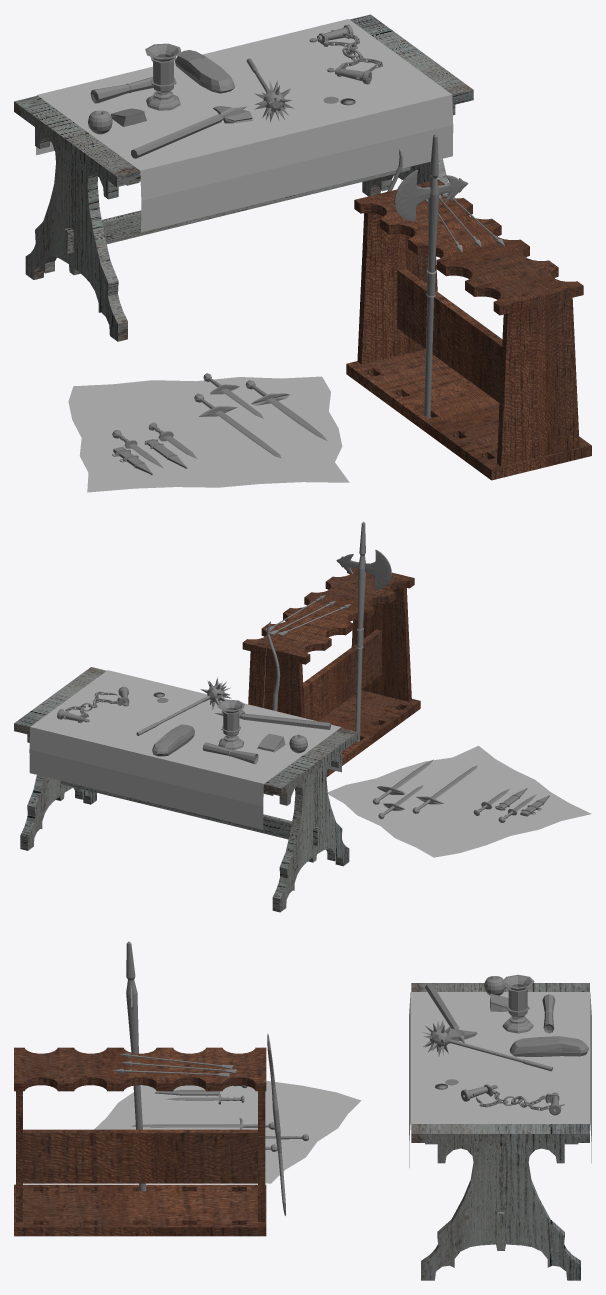
File: Medieval_set_1.obj
3 renders of one model, top to bottom at view 1: azimuth 30°, elevation 25°; view 2: azimuth 150°, elevation 25°; view 3: azimuth 270°, elevation 25°, orthographic. The views are drawn at different scales.
Visible parts, largest first — view 1: Sword_Rack, Plane01, Plane02, Table1, Spear1, Mug, Bread, Mace, Mace1, Sword04, Sword03, Scroll; view 2: Plane01, Sword_Rack, Plane02, Table1, Spear1, Mug, Bread, Mace1, Mace; view 3: Sword_Rack, Plane01, Table1, Plane02, Spear1, Bread, Mug, Mace1, Bow1, Mace, Sword03.
Boxes of the visible parts, x1=… form: Sword_Rack: x1=346, y1=179, x2=591, y2=480; Plane01: x1=36, y1=19, x2=453, y2=232; Plane02: x1=68, y1=376, x2=349, y2=492; Table1: x1=14, y1=14, x2=473, y2=341; Spear1: x1=394, y1=134, x2=468, y2=418; Mug: x1=145, y1=43, x2=181, y2=110; Bread: x1=175, y1=50, x2=235, y2=93; Mace: x1=131, y1=106, x2=252, y2=158; Mace1: x1=246, y1=58, x2=294, y2=122; Sword04: x1=245, y1=380, x2=327, y2=440; Sword03: x1=194, y1=393, x2=281, y2=457; Scroll: x1=90, y1=77, x2=153, y2=103; Plane01: x1=29, y1=670, x2=341, y2=829; Sword_Rack: x1=242, y1=567, x2=420, y2=776; Plane02: x1=327, y1=745, x2=591, y2=857; Table1: x1=14, y1=667, x2=358, y2=912; Spear1: x1=336, y1=521, x2=391, y2=741; Mug: x1=217, y1=699, x2=244, y2=749; Bread: x1=152, y1=724, x2=194, y2=756; Mace1: x1=136, y1=677, x2=231, y2=735; Mace: x1=215, y1=709, x2=330, y2=729; Sword_Rack: x1=14, y1=1047, x2=266, y2=1236; Plane01: x1=409, y1=992, x2=591, y2=1167; Table1: x1=411, y1=983, x2=589, y2=1280; Plane02: x1=94, y1=1081, x2=361, y2=1183; Spear1: x1=126, y1=941, x2=146, y2=1191; Bread: x1=509, y1=1036, x2=588, y2=1056; Mug: x1=501, y1=974, x2=534, y2=1033; Mace1: x1=422, y1=1020, x2=552, y2=1071; Bow1: x1=267, y1=1033, x2=285, y2=1215; Mace: x1=425, y1=983, x2=477, y2=1043; Sword03: x1=131, y1=1118, x2=274, y2=1129.
Size of the model in its own units: 1069 by 573 by 1168.
Materials: 11 (2 with a texture image).
